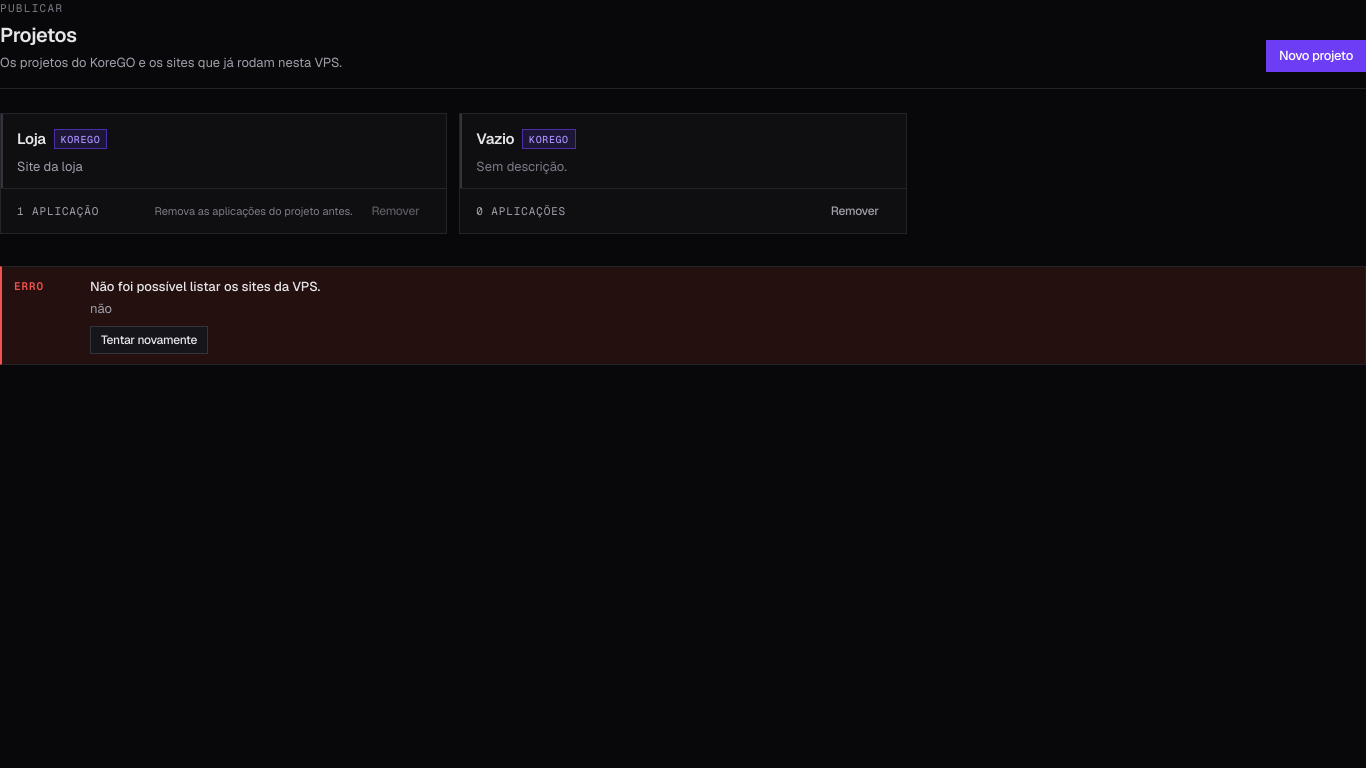
Test: Projetos › novo projeto pelo diálogo
Expected: the link "Loja" is shown, 17,129 -> 46,148
Click the button "Novo projeto".
click(1316, 56)  # box 1266,40 -> 1365,72
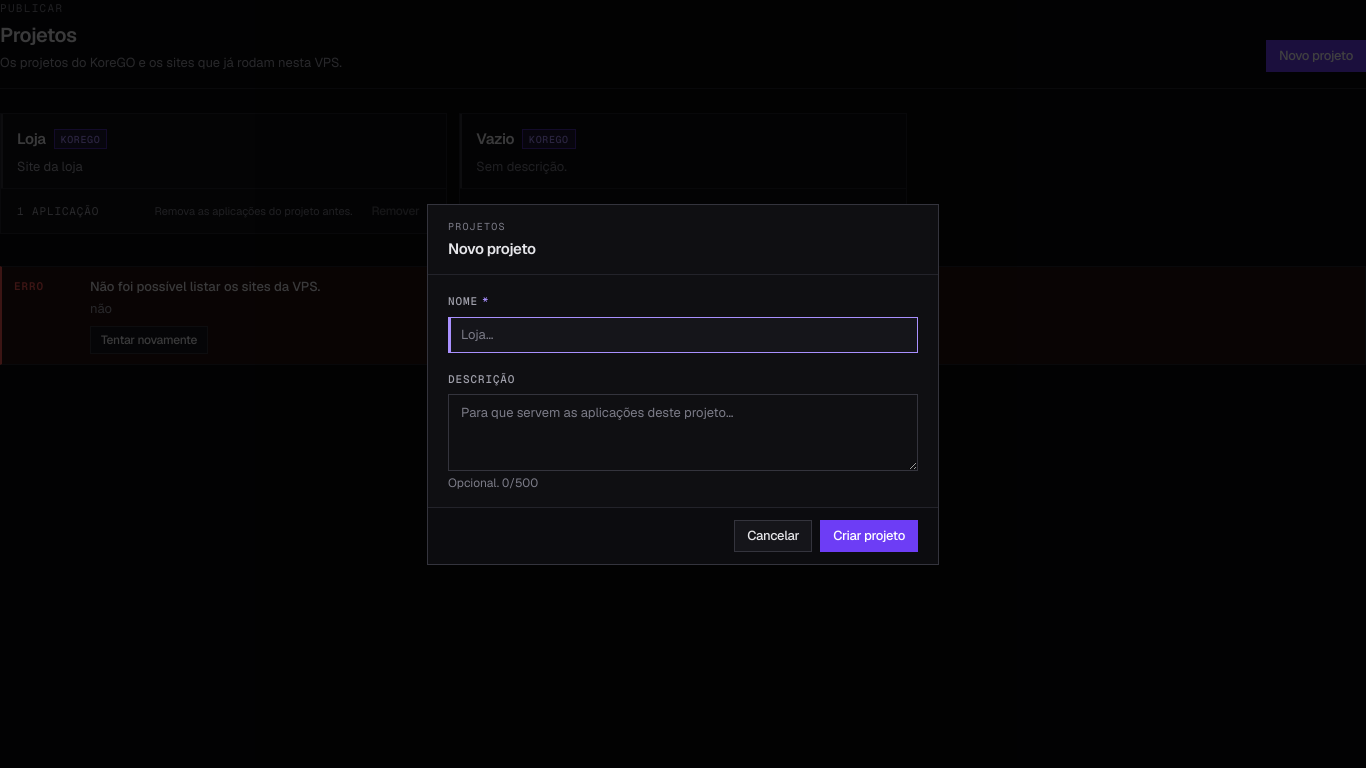
Click the button "Criar projeto".
click(869, 536)  # box 820,520 -> 918,552
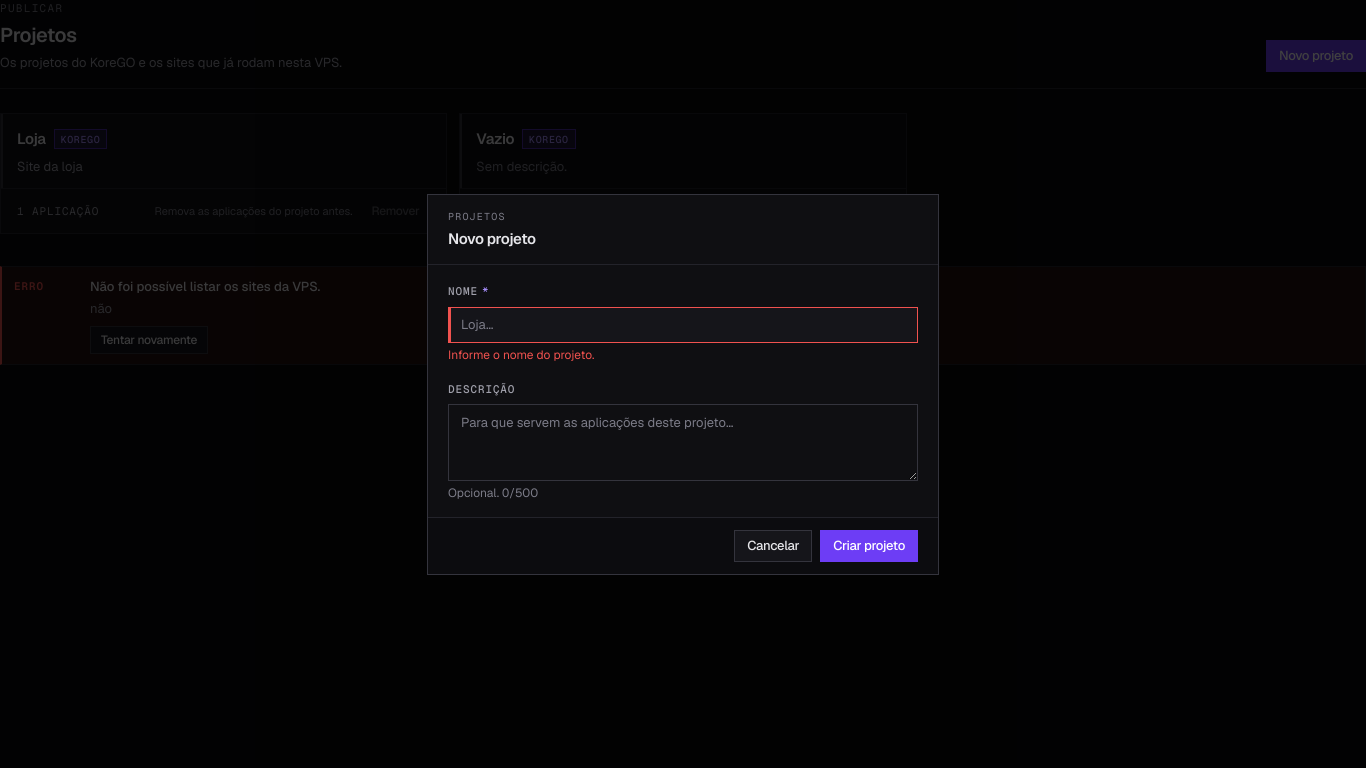
Expected: the text "Informe o nome do projeto." is shown, 448,346 -> 594,362
Type "Blog" into the field labelled "Nome *".
click(683, 324); type("Blog")  # box 448,306 -> 918,342
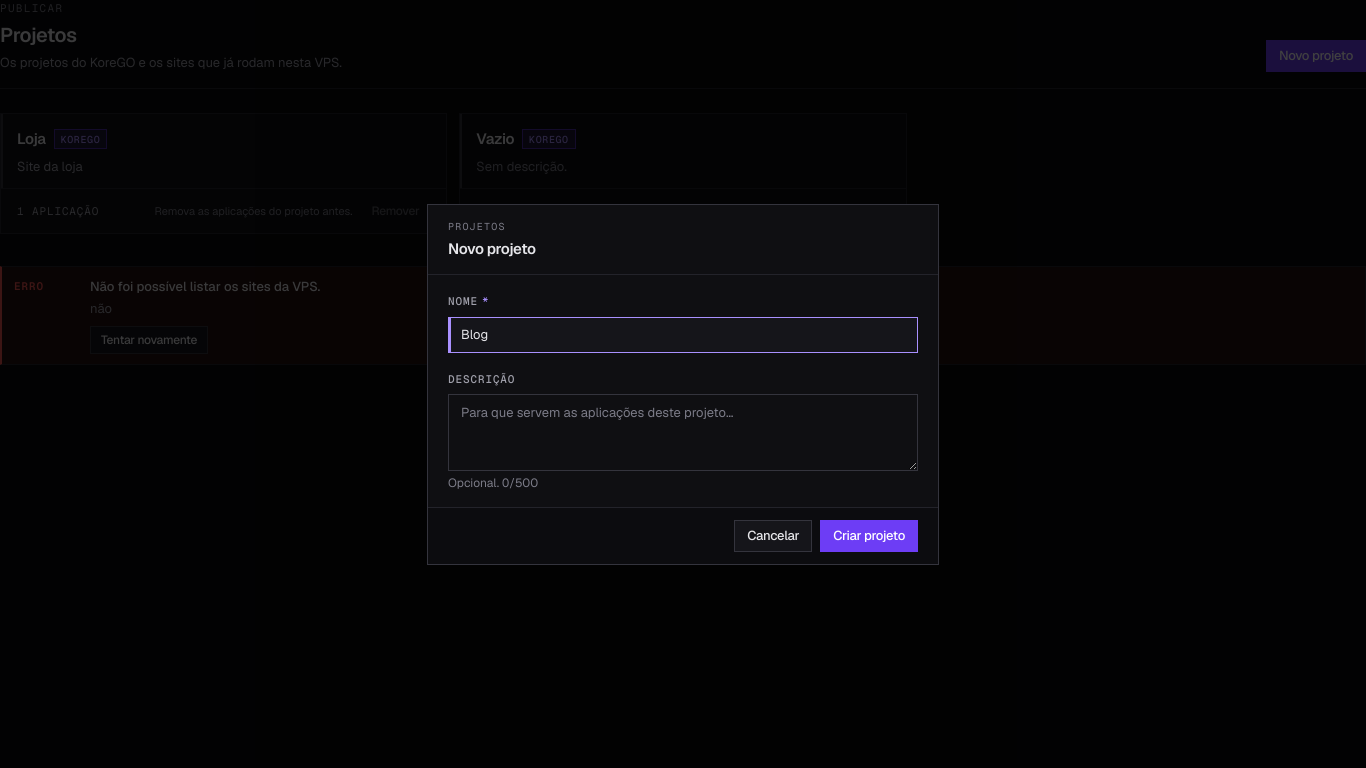
Type "Notícias" into the text box labelled "Descrição".
click(683, 432); type("Notícias")  # box 448,394 -> 918,470
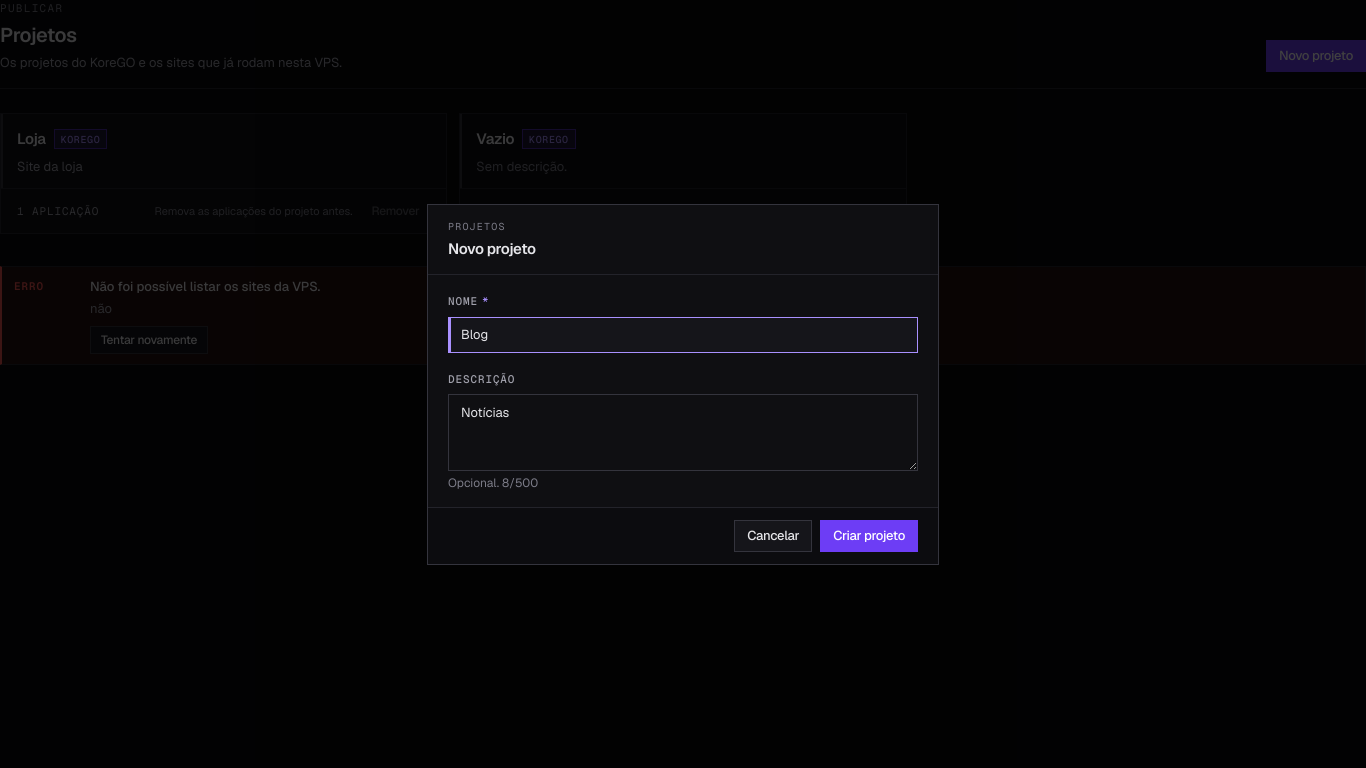
Click the button "Criar projeto".
click(869, 536)  # box 820,520 -> 918,552
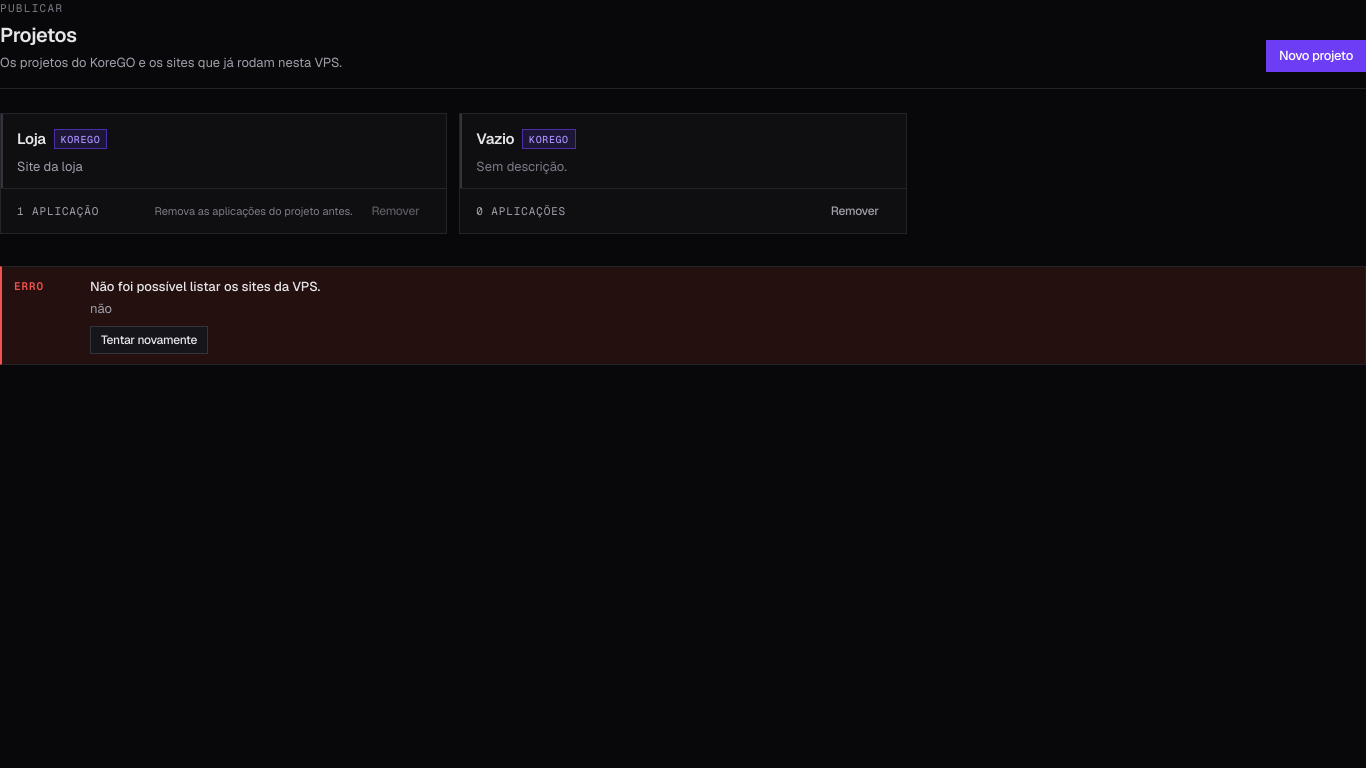
Expected: the dialog is gone
